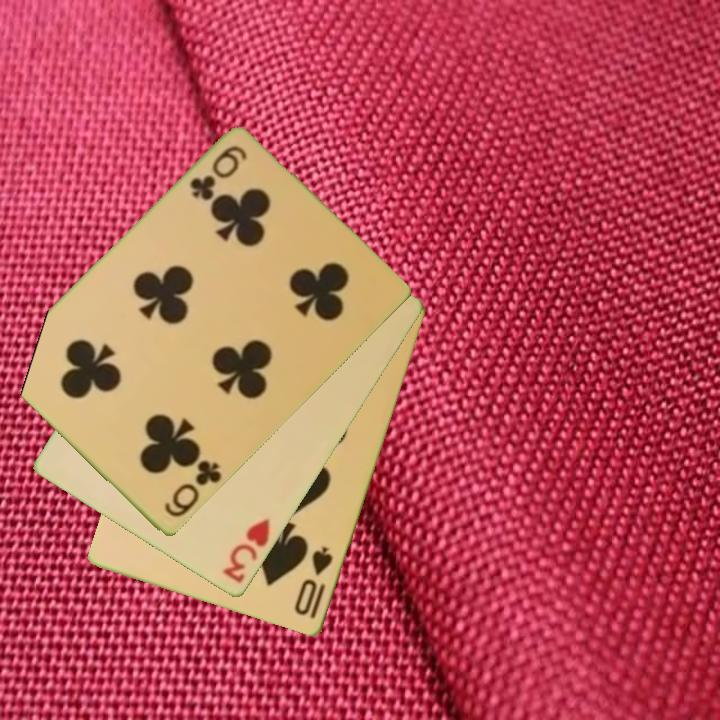10s: (291, 543, 336, 623)
3h: (219, 515, 273, 587)
6c: (161, 457, 225, 521), (186, 143, 250, 205)
